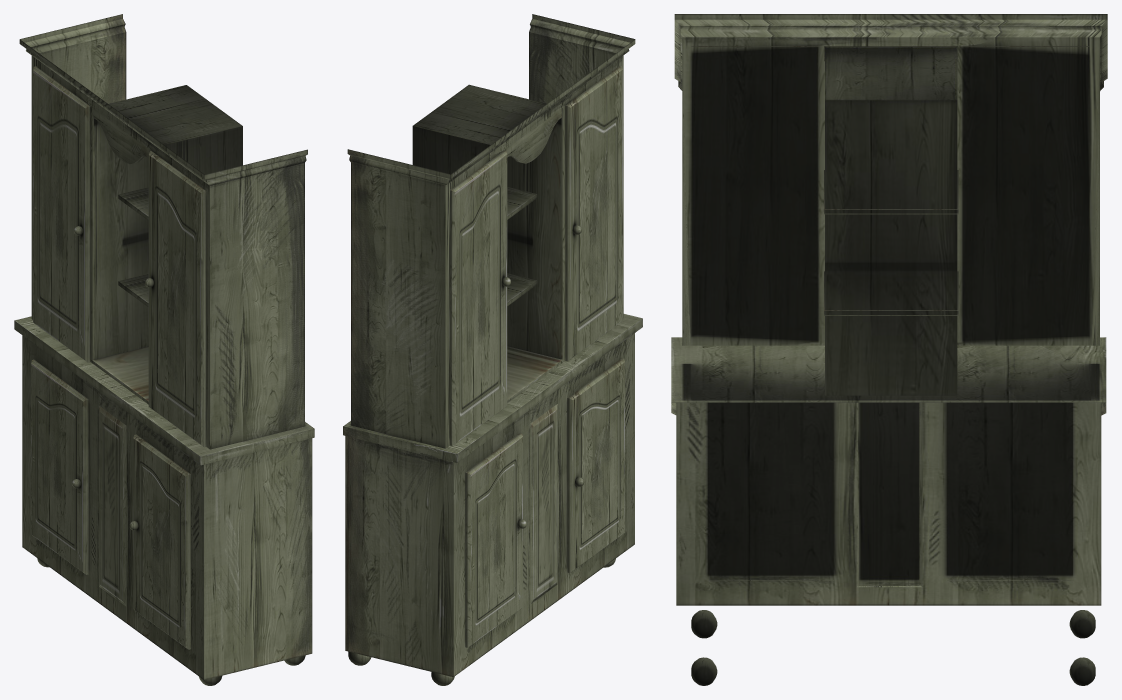
Rendered from meuble_desk.fbx.
3 views of the same model, side by side, from view 1: azimuth 30°, elevation 25°; view 2: azimuth 150°, elevation 25°; view 3: azimuth 270°, elevation 25° (orthographic). The views are drawn at different scales.
Visible parts, largest first — view 1: polySurface1843; view 2: polySurface1843; view 3: polySurface1843.
Part boxes in pixels (bbox=[...]): polySurface1843: bbox=[14, 14, 314, 685]; polySurface1843: bbox=[343, 14, 642, 685]; polySurface1843: bbox=[671, 14, 1107, 685].
Size of the model in its own units: 55.84 by 226 by 146.
